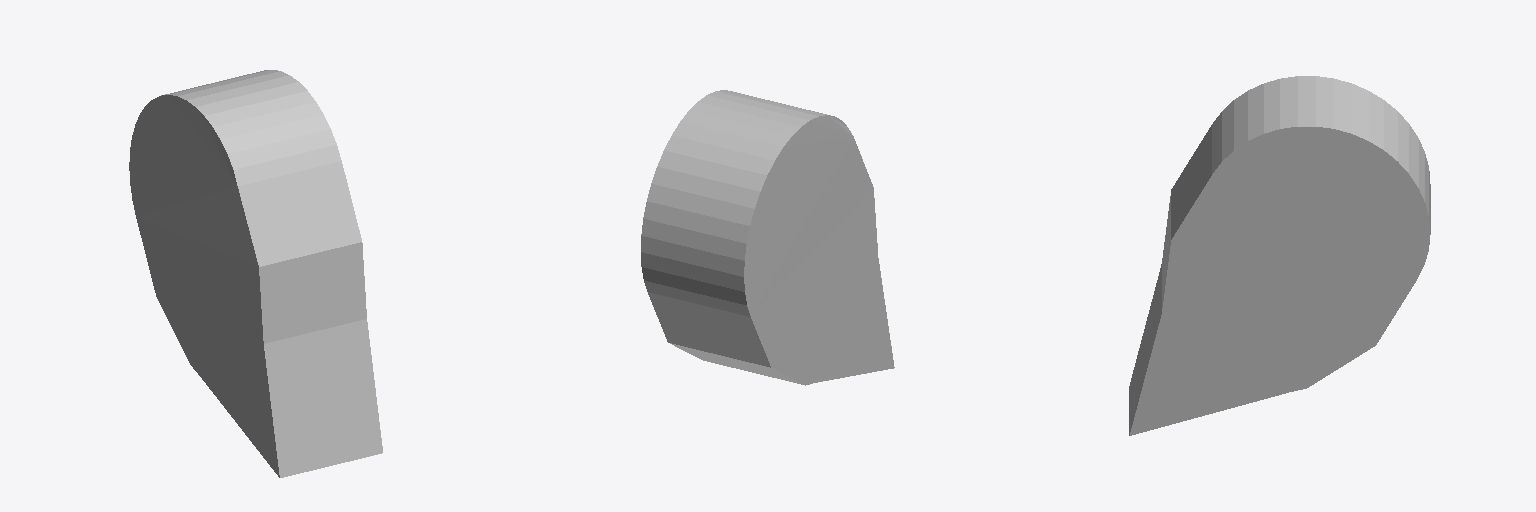
File: e_left_reg1.obj
3 renders of one model, left to right at view 1: azimuth 30°, elevation 25°; view 2: azimuth 150°, elevation 25°; view 3: azimuth 270°, elevation 25°, orthographic.
Bounding box in the file's own units: 0.503 × 1.43 × 1.26.